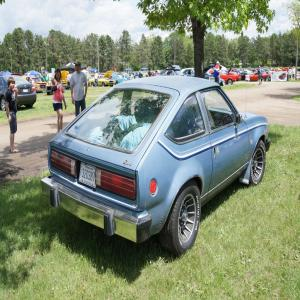Vehicle-registration-plate: (79, 163, 98, 191), (24, 89, 28, 93)
